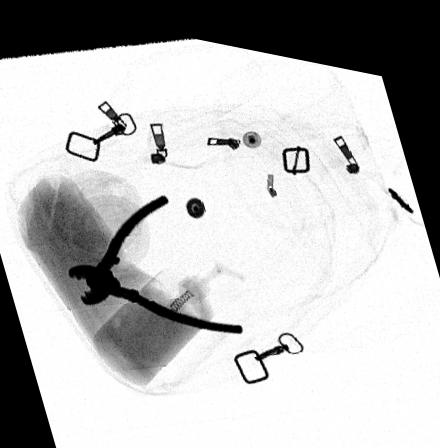Pliers: (66, 187, 244, 322)
